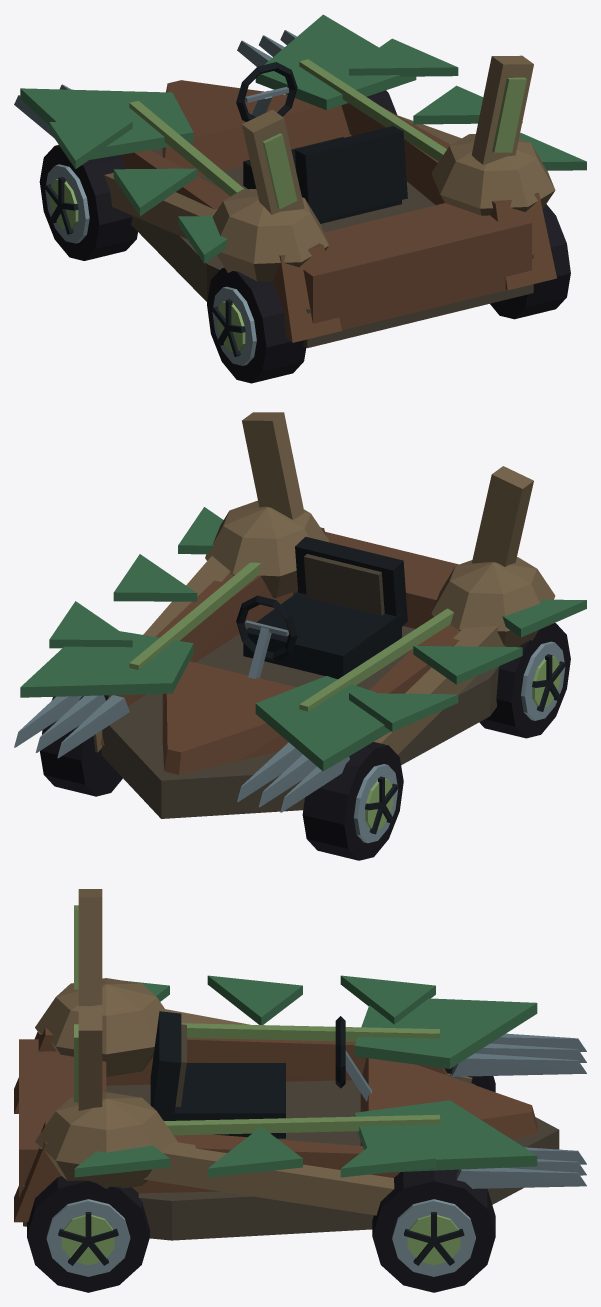
File: kart.glb
3 renders of one model, top to bottom at view 1: azimuth 30°, elevation 25°; view 2: azimuth 150°, elevation 25°; view 3: azimuth 270°, elevation 25°, orthographic. The views are drawn at different scales.
Visible parts, largest first — view 1: identity-nature-nature-root-cradle-and-leaf-bow, identity-nature-motif-leaves, identity-nature-driver-cockpit, identity-nature-motif-ears, wheel-rear-left, wheel-front-left, wheel-rear-right, identity-nature-motif-claws; view 2: identity-nature-nature-root-cradle-and-leaf-bow, identity-nature-driver-cockpit, identity-nature-motif-leaves, identity-nature-motif-ears, wheel-front-left, identity-nature-motif-claws, wheel-rear-left, wheel-front-right; view 3: identity-nature-nature-root-cradle-and-leaf-bow, identity-nature-motif-leaves, wheel-front-right, wheel-rear-right, identity-nature-driver-cockpit, identity-nature-motif-claws, identity-nature-motif-ears.
Part boxes in pixels (<box>): identity-nature-nature-root-cradle-and-leaf-bow: <box>20,14,556,347</box>; identity-nature-motif-leaves: <box>49,38,586,263</box>; identity-nature-driver-cockpit: <box>236,62,407,223</box>; identity-nature-motif-ears: <box>242,55,533,214</box>; wheel-rear-left: <box>207,267,306,383</box>; wheel-front-left: <box>39,145,137,260</box>; wheel-rear-right: <box>490,204,570,319</box>; identity-nature-motif-claws: <box>14,30,296,137</box>; identity-nature-nature-root-cradle-and-leaf-bow: <box>20,500,555,818</box>; identity-nature-driver-cockpit: <box>236,536,407,678</box>; identity-nature-motif-leaves: <box>49,507,586,731</box>; identity-nature-motif-ears: <box>242,412,533,566</box>; wheel-front-left: <box>302,742,403,860</box>; identity-nature-motif-claws: <box>14,695,349,812</box>; wheel-rear-left: <box>479,623,570,738</box>; wheel-front-right: <box>40,695,122,796</box>; identity-nature-nature-root-cradle-and-leaf-bow: <box>14,978,559,1240</box>; identity-nature-motif-leaves: <box>74,975,435,1177</box>; wheel-front-right: <box>372,1169,495,1292</box>; wheel-rear-right: <box>27,1176,149,1292</box>; identity-nature-driver-cockpit: <box>150,1011,371,1138</box>; identity-nature-motif-claws: <box>452,1033,586,1188</box>; identity-nature-motif-ears: <box>74,889,102,1110</box>.
Size of the model in its own units: 2.3 by 1.46 by 2.88.
